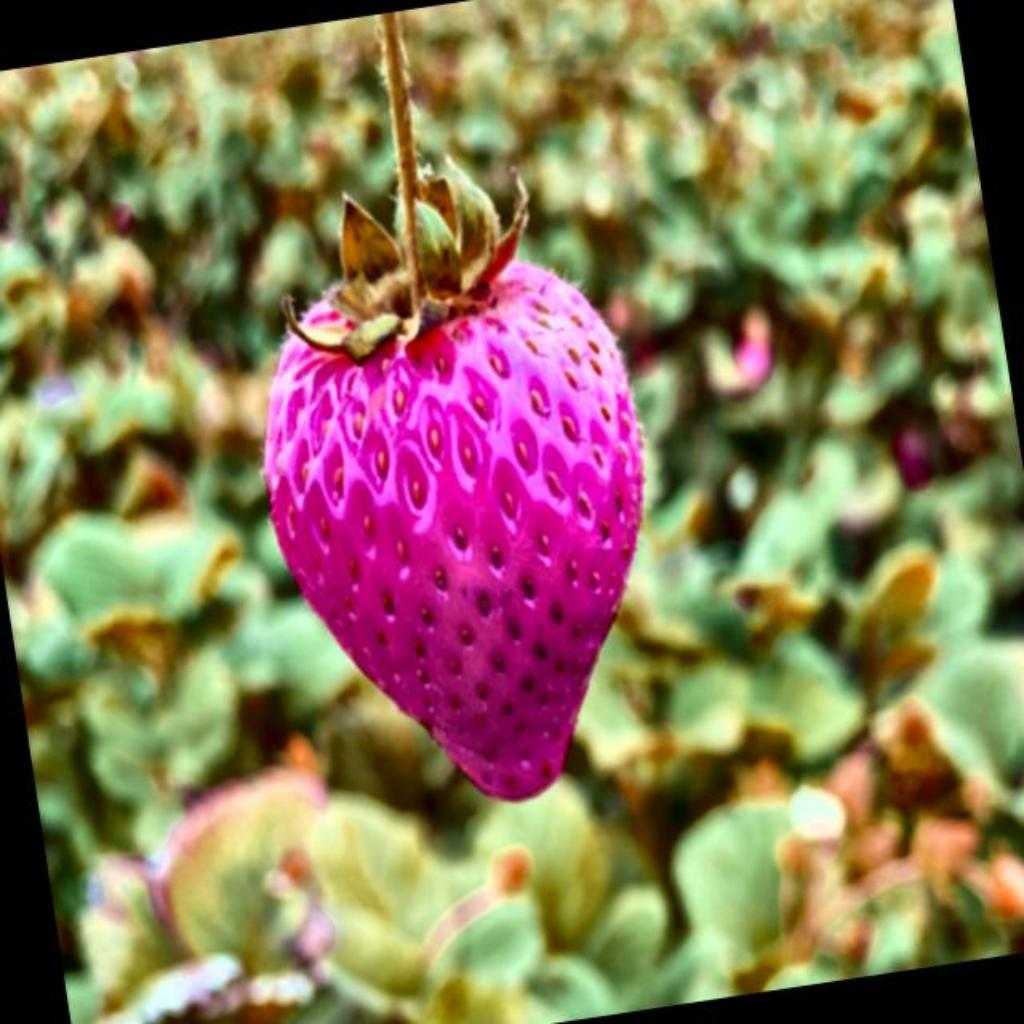strawberry: (266, 16, 642, 800)
